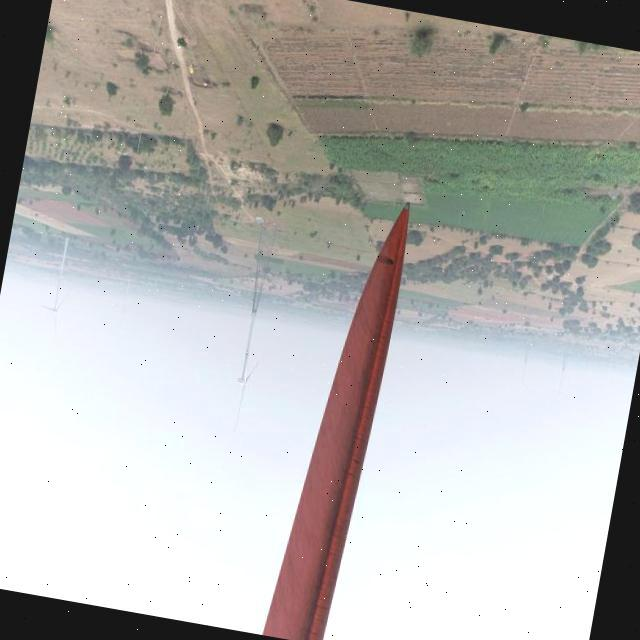Dirt: (260, 207, 410, 639)
Pin Hole: (384, 260, 400, 268)
